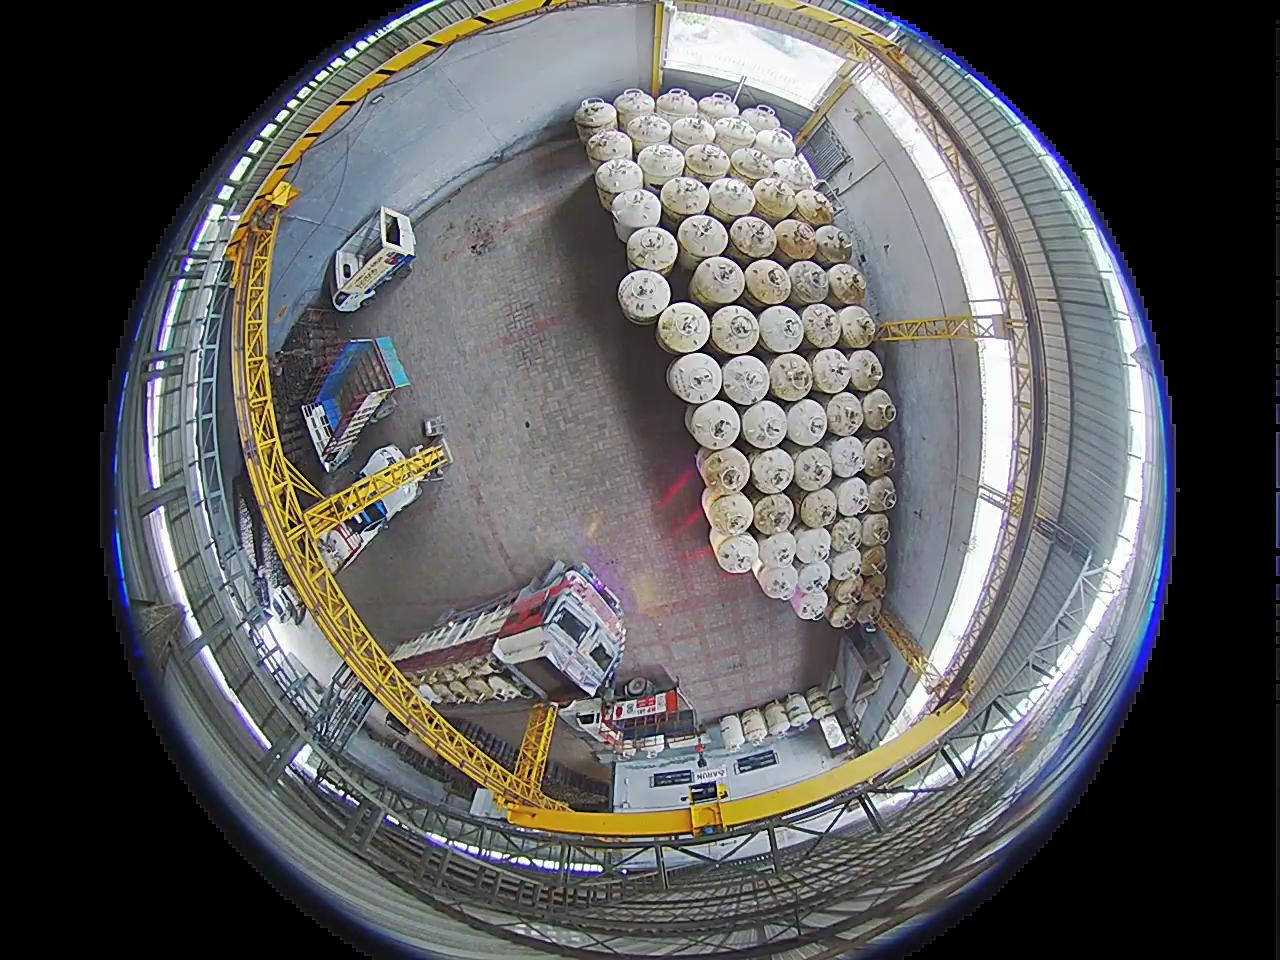cylinder: (585, 159, 672, 218), (603, 193, 681, 254), (663, 350, 744, 408), (841, 620, 893, 691), (617, 270, 674, 324), (686, 398, 741, 450), (690, 256, 745, 308), (710, 305, 762, 355), (676, 213, 729, 261), (741, 399, 790, 450), (577, 132, 638, 172), (757, 305, 806, 354), (699, 447, 750, 495), (744, 258, 794, 306), (571, 92, 629, 132), (749, 446, 796, 493), (708, 175, 757, 221), (668, 302, 711, 354), (767, 353, 813, 400), (636, 142, 685, 187), (729, 215, 777, 259), (707, 492, 754, 536), (785, 398, 829, 445), (752, 176, 798, 221), (809, 347, 853, 393), (786, 260, 830, 305), (791, 446, 835, 491), (683, 142, 731, 184), (669, 115, 718, 155), (800, 304, 843, 349), (774, 219, 819, 261), (625, 111, 672, 151), (823, 391, 865, 437), (752, 493, 795, 535), (837, 305, 877, 350), (714, 533, 760, 573), (729, 145, 775, 184), (826, 263, 868, 306), (827, 435, 868, 478), (798, 487, 839, 529), (713, 116, 758, 153), (612, 89, 653, 129), (792, 525, 833, 567), (847, 349, 885, 392), (813, 226, 854, 266), (757, 530, 798, 570), (793, 188, 836, 226), (833, 476, 871, 517), (861, 387, 898, 430), (753, 127, 796, 162), (659, 81, 695, 122), (756, 563, 797, 599), (771, 157, 813, 193), (270, 584, 305, 626), (696, 92, 739, 125), (861, 436, 895, 476), (829, 515, 864, 554), (740, 104, 780, 136), (795, 559, 830, 595), (865, 474, 897, 512), (828, 547, 863, 582), (793, 588, 828, 620), (818, 714, 849, 751), (860, 512, 891, 548), (826, 598, 860, 630), (470, 787, 501, 820), (740, 707, 768, 743), (719, 714, 746, 750), (829, 575, 862, 605), (859, 544, 888, 576), (785, 692, 813, 725), (806, 687, 835, 719), (764, 702, 791, 735), (684, 402, 709, 440), (487, 675, 520, 701), (859, 571, 887, 600), (856, 599, 884, 627), (464, 677, 495, 702), (384, 713, 411, 739), (447, 679, 475, 702), (461, 657, 490, 678), (443, 663, 471, 682), (422, 416, 445, 437), (430, 682, 454, 702), (370, 94, 385, 105)
truck: (391, 561, 625, 704), (310, 449, 429, 575), (298, 337, 409, 455), (328, 211, 416, 312), (561, 684, 669, 756)
